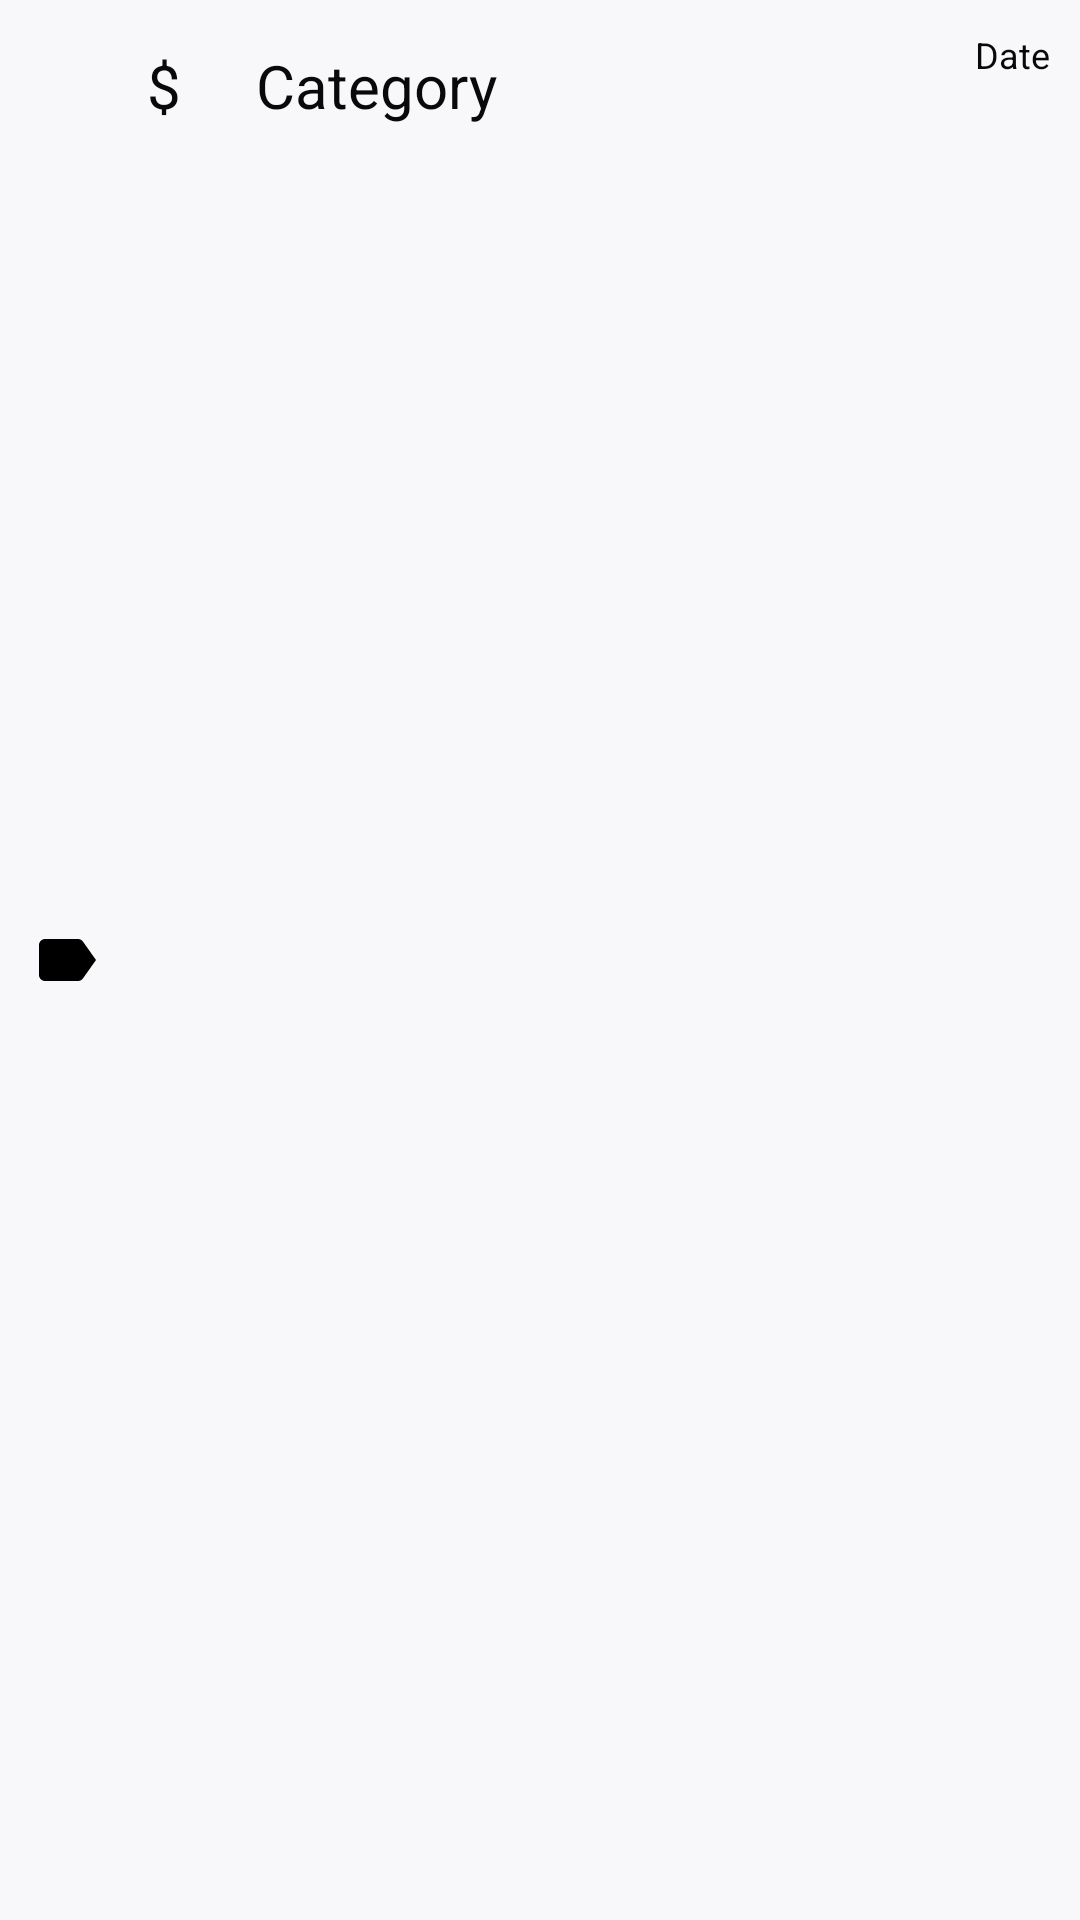

Named icons in this screenshot (1080×1920) and their centers, (x,y):
label: (67,960)
